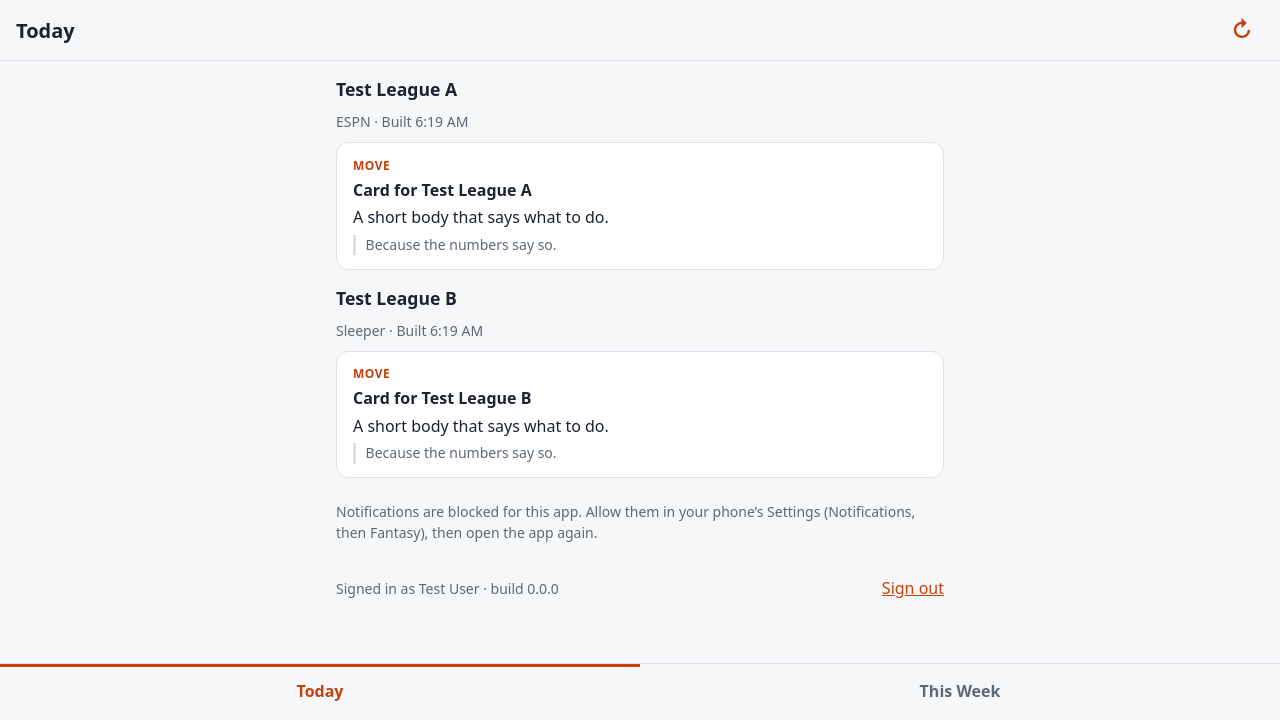
Scenario: when something is wrong › keeps showing the reports it has when a refresh fails, and says so
Expected: the heading "Card for Test League A" is shown, [353,179,532,201]
Click the button named "Refresh". click: (1242, 30)
box: [1220,8,1264,52]
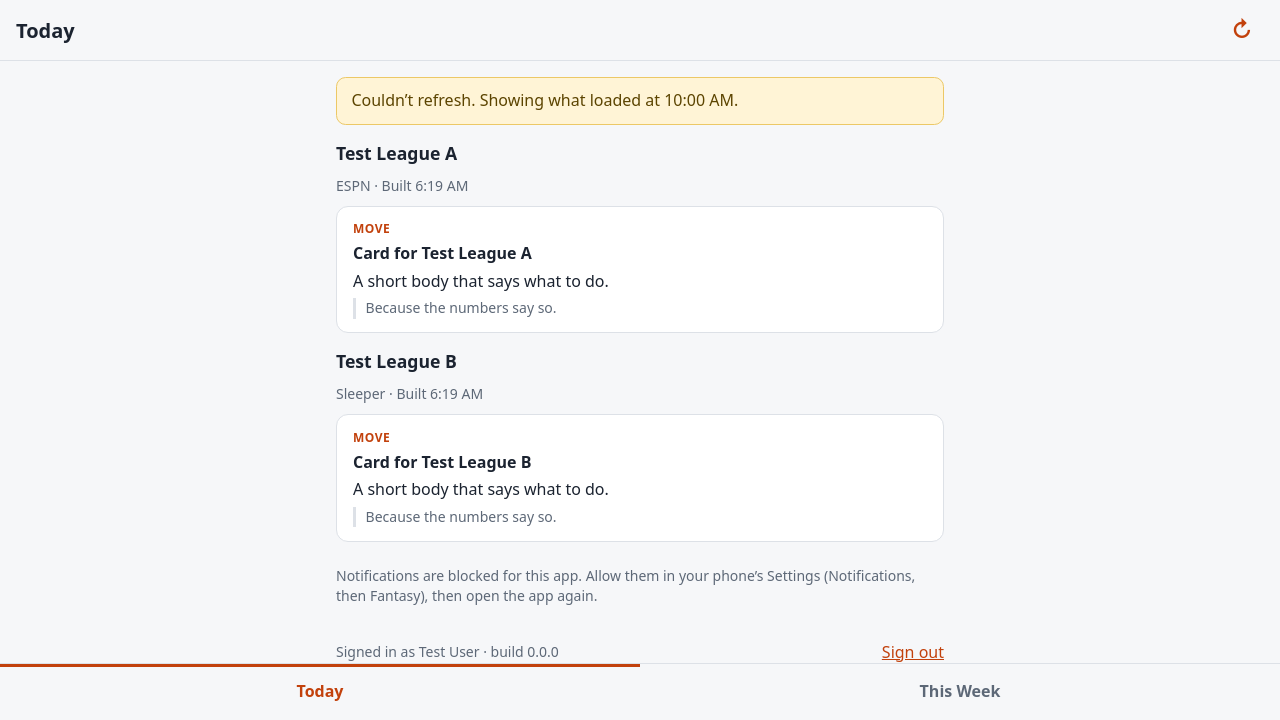
Expected: the heading "Card for Test League A" is shown, [353,242,532,264]
Expected: the text "Couldn’t refresh. Showing what loaded at 10:00 AM." is shown, [336,77,944,125]
